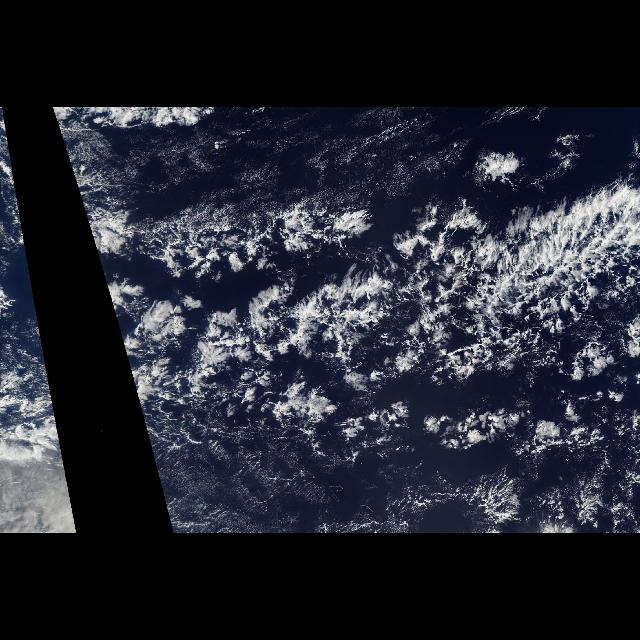Fish: (166, 214, 640, 370)
Gravel: (141, 198, 627, 376)
Sugar: (112, 128, 476, 192)
